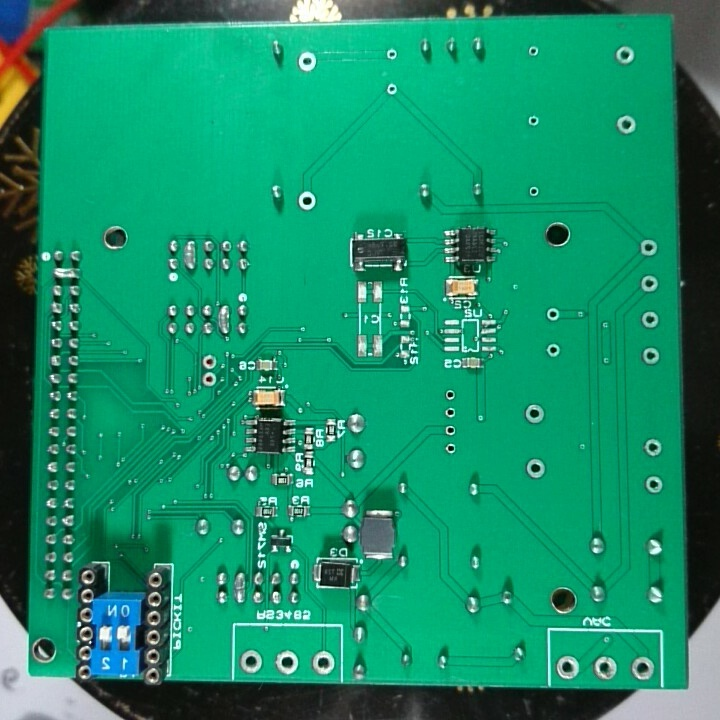F: (309, 648, 339, 678), (630, 653, 658, 685), (237, 647, 267, 676), (293, 187, 322, 215), (273, 647, 302, 675), (590, 653, 619, 681), (554, 653, 582, 681), (613, 40, 638, 71), (520, 402, 547, 429), (295, 50, 320, 76), (524, 457, 551, 480), (642, 435, 666, 460), (639, 308, 663, 332), (614, 112, 637, 135), (643, 472, 665, 496), (637, 236, 659, 260), (640, 344, 661, 369), (198, 353, 221, 374), (544, 303, 563, 327), (383, 80, 404, 100), (544, 340, 563, 362), (525, 112, 544, 133), (637, 273, 658, 292), (525, 41, 542, 62), (384, 44, 401, 64), (525, 182, 542, 202), (201, 371, 219, 389), (442, 386, 459, 405), (441, 438, 458, 457), (443, 403, 459, 422), (443, 422, 459, 439)
P: (48, 263, 87, 284), (231, 568, 249, 611), (215, 303, 233, 337), (181, 238, 197, 273)
